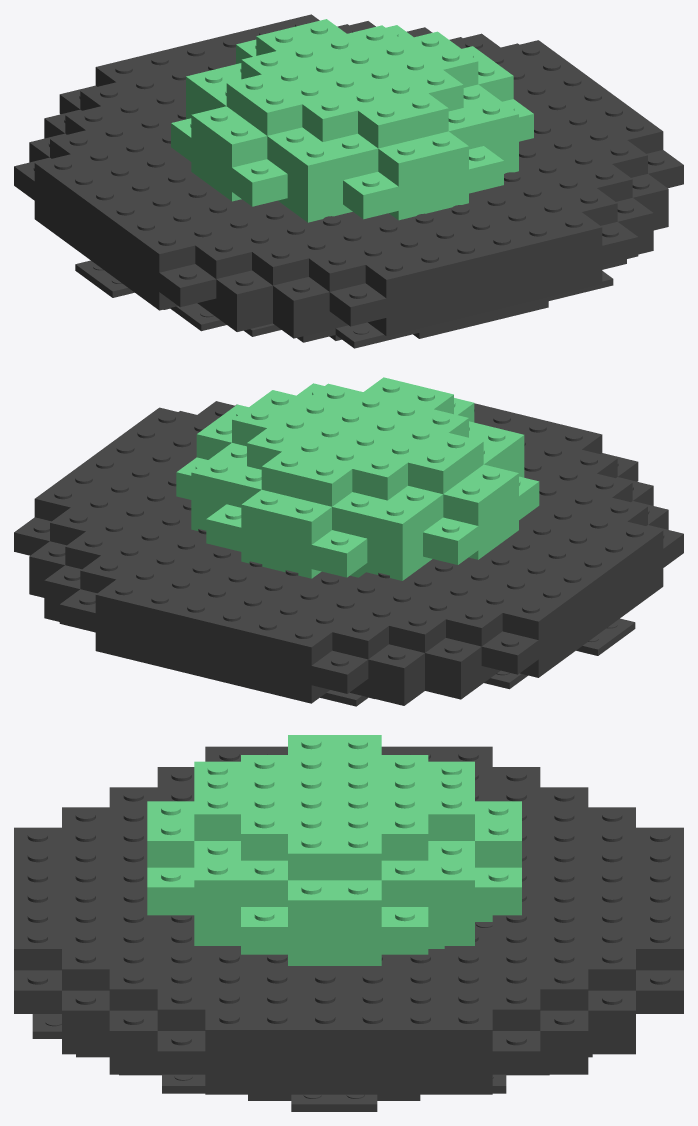
Rendered from alien.glb.
3 views of the same model, one above another, from view 1: azimuth 30°, elevation 25°; view 2: azimuth 150°, elevation 25°; view 3: azimuth 270°, elevation 25° (orthographic). The views are drawn at different scales.
Visible parts, largest first — view 1: Object_8; view 2: Object_8; view 3: Object_8.
Boxes of the visible parts, bbox=[...] form: Object_8: bbox=[14, 14, 683, 348]; Object_8: bbox=[14, 377, 683, 706]; Object_8: bbox=[14, 735, 683, 1111].
Size of the model in its own units: 5.31 by 1.55 by 5.16.
